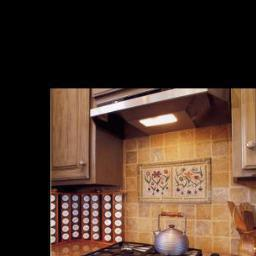Electrodomestico: (64, 239, 231, 256)
